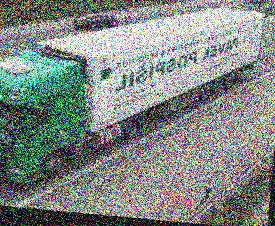car: (71, 11, 117, 32), (247, 0, 270, 6)
